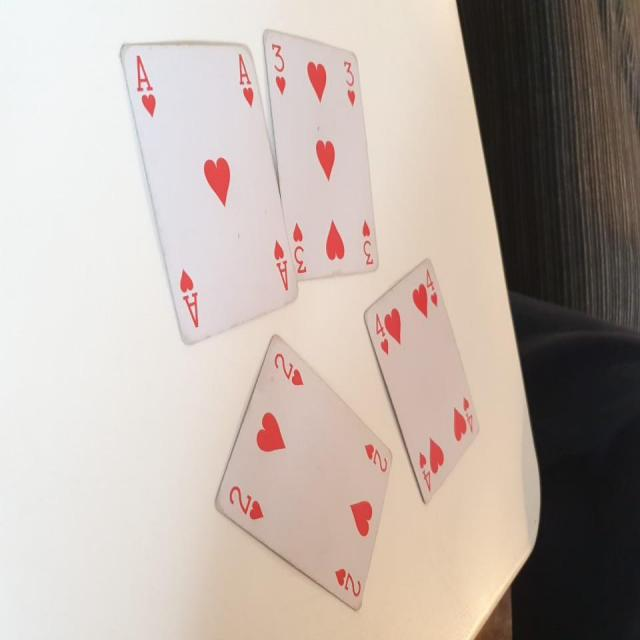2 Hearts: (210, 326, 402, 617)
3 Hearts: (254, 19, 386, 286)
4 Hearts: (356, 260, 488, 506)
A Hearts: (114, 37, 303, 346)
